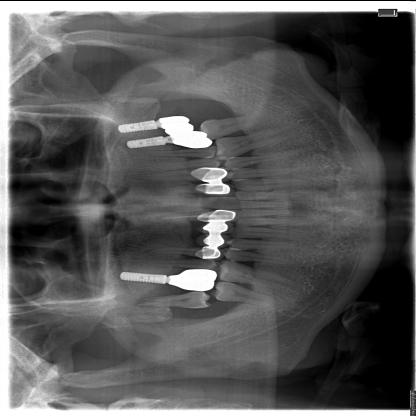ITI: (124, 133, 172, 149), (113, 272, 168, 284), (113, 118, 159, 132)
